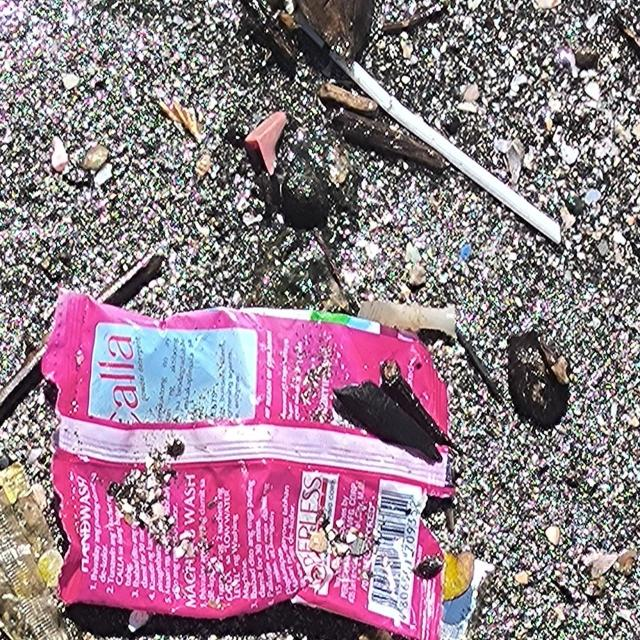plastic_waste: (35, 300, 452, 633), (271, 4, 568, 250)
